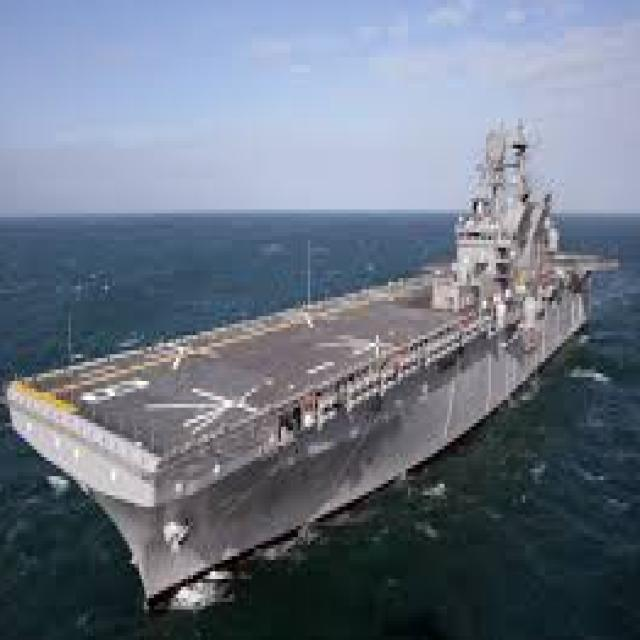navalvessels: (17, 107, 617, 597)
